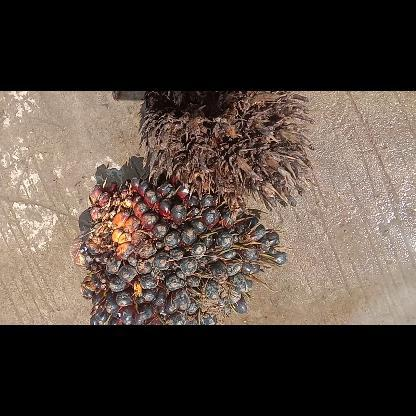Janjang kosong: (139, 90, 313, 220)
TBS mentah: (69, 176, 291, 324)
